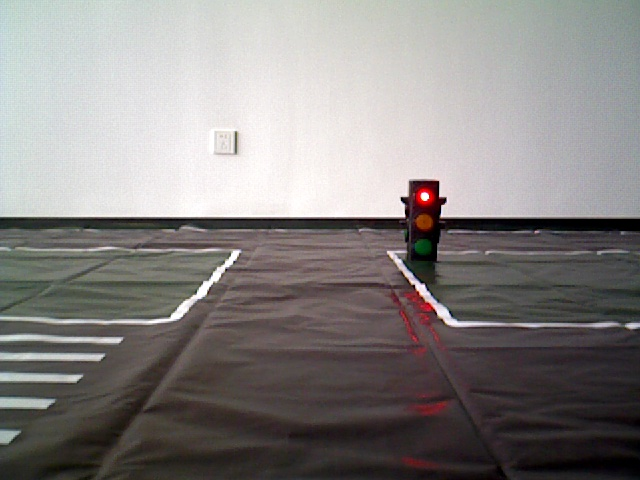red: (411, 180, 437, 257)
